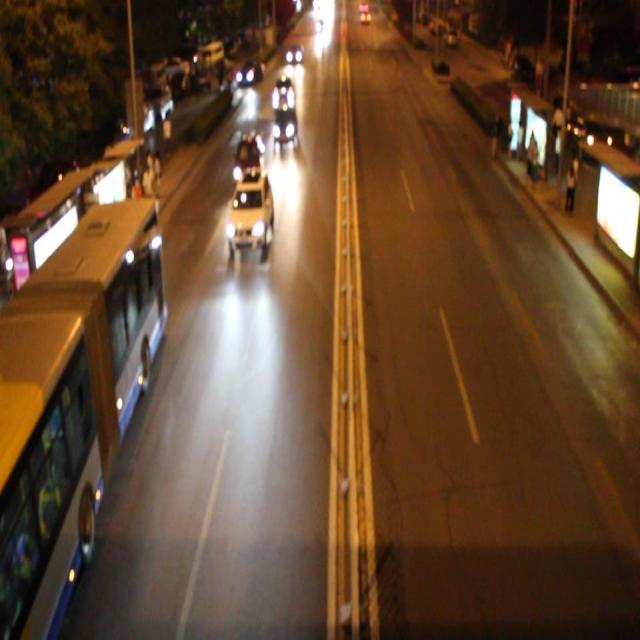car: (227, 168, 273, 250), (234, 132, 264, 187), (273, 105, 297, 144), (271, 76, 296, 111)
van: (1, 198, 162, 640)
